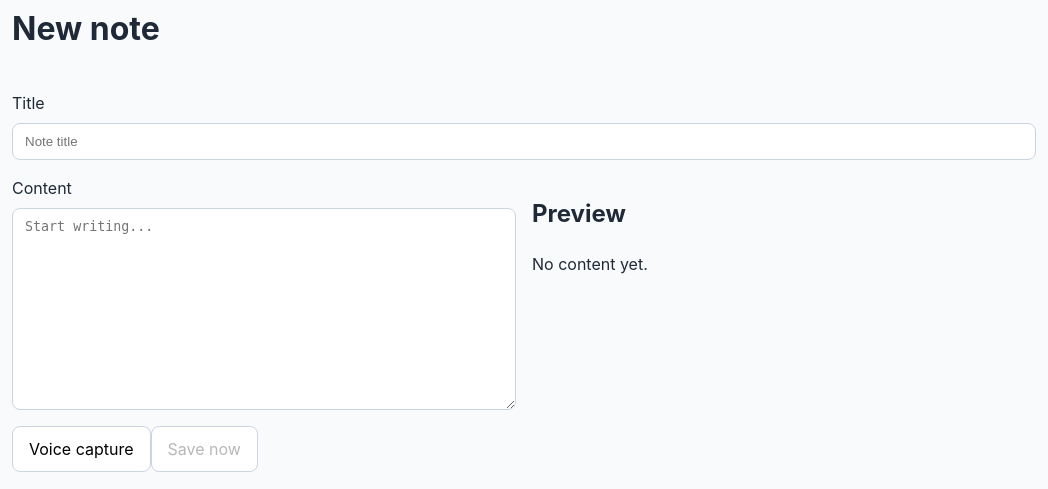
Test: NoteEditor › shows a live markdown preview while editing
Type "# Heading" into the text box with placeholder "Start writing..." at point(264, 309), box [12,208,516,410]
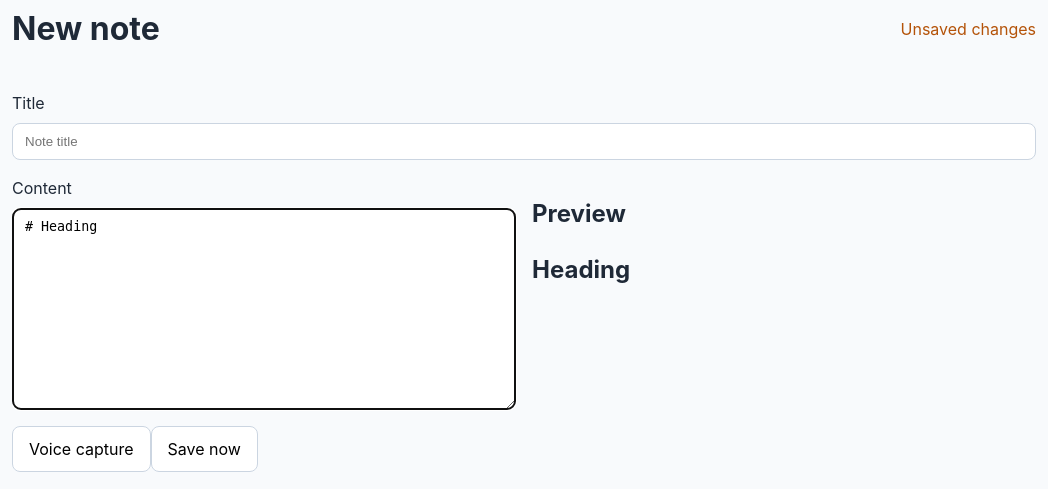
Expected: the heading "Heading" is shown, [532,255,630,284]
